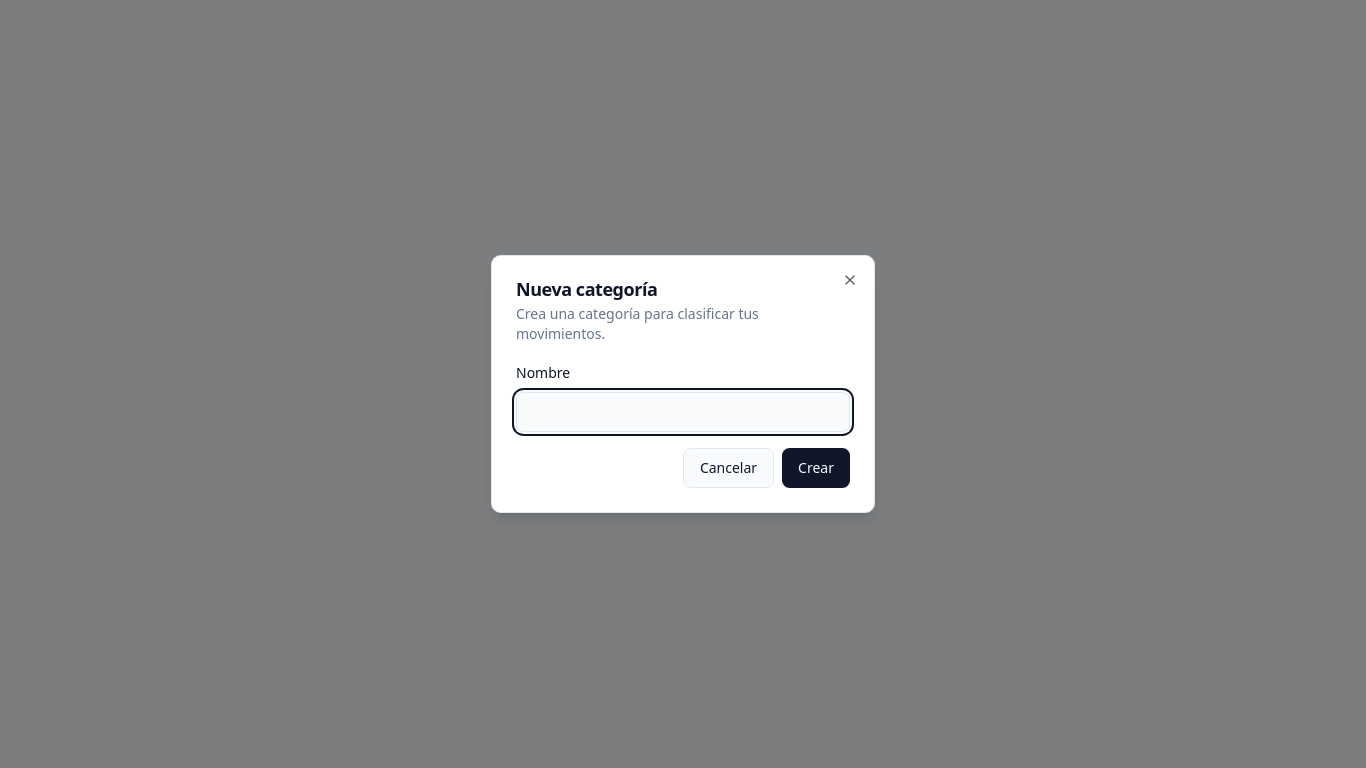
Test case: CategoryForm create › shows a name-collision error on the field and keeps the dialog open
Type "Comida" into the field labelled "Nombre".
click(683, 412); type("Comida")  # box [516,392,850,432]
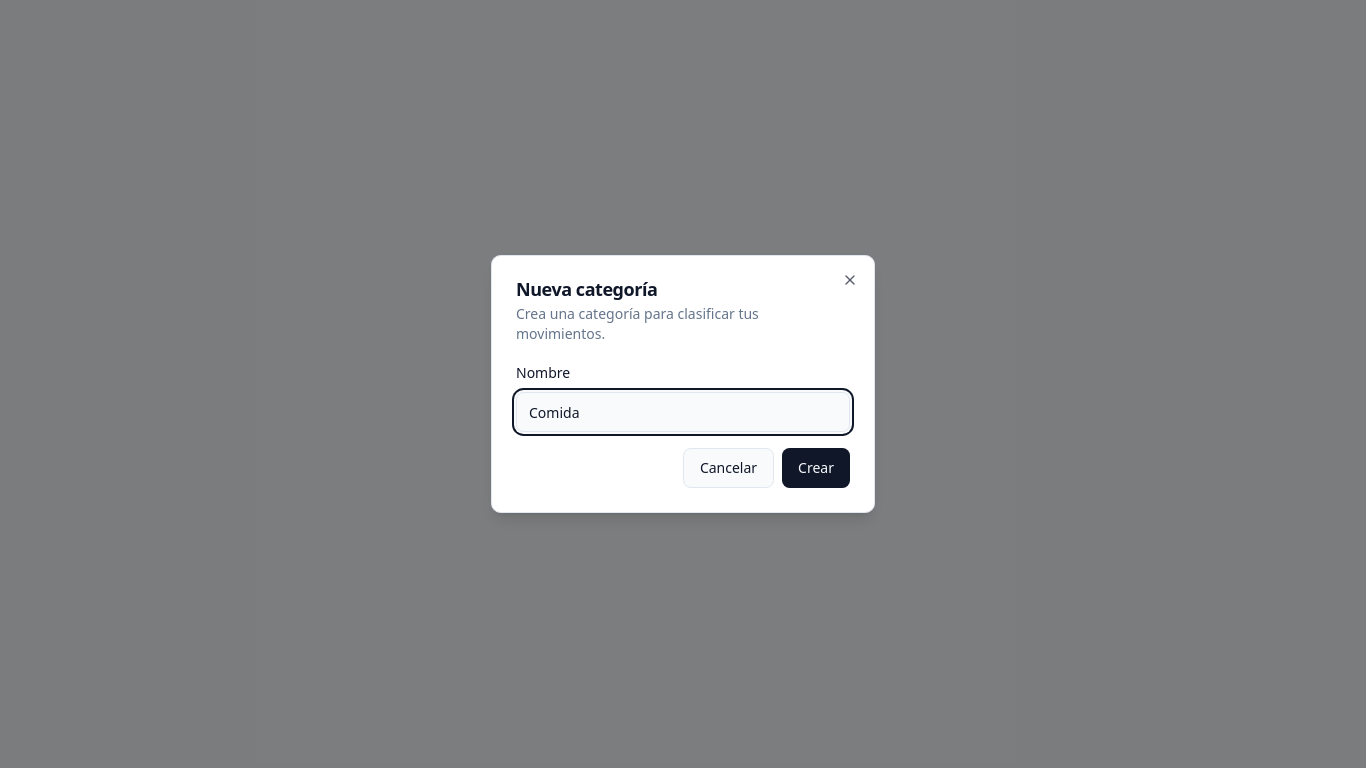
Click the button "Crear".
click(816, 468)  # box [782,448,850,488]
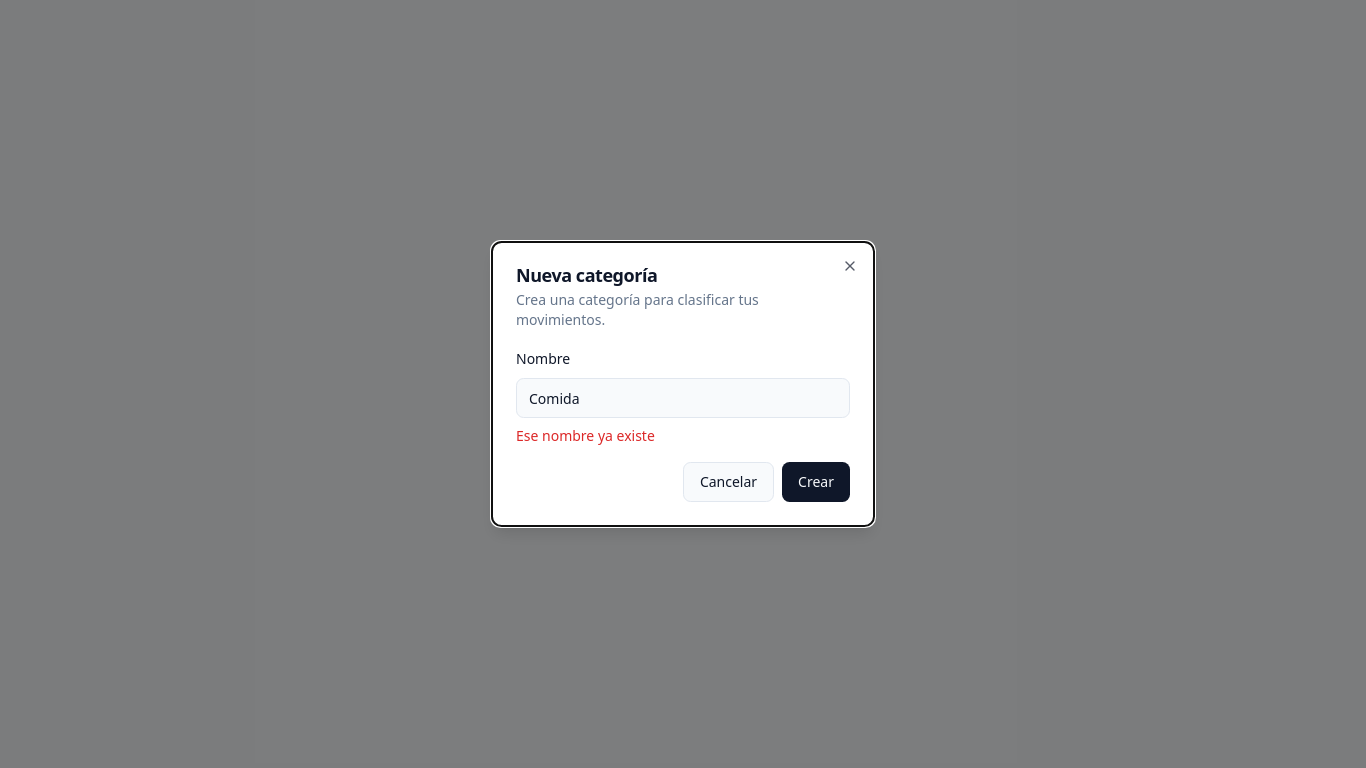
expect the text "Ese nombre ya existe" is shown: met, box [516,426,655,445]
